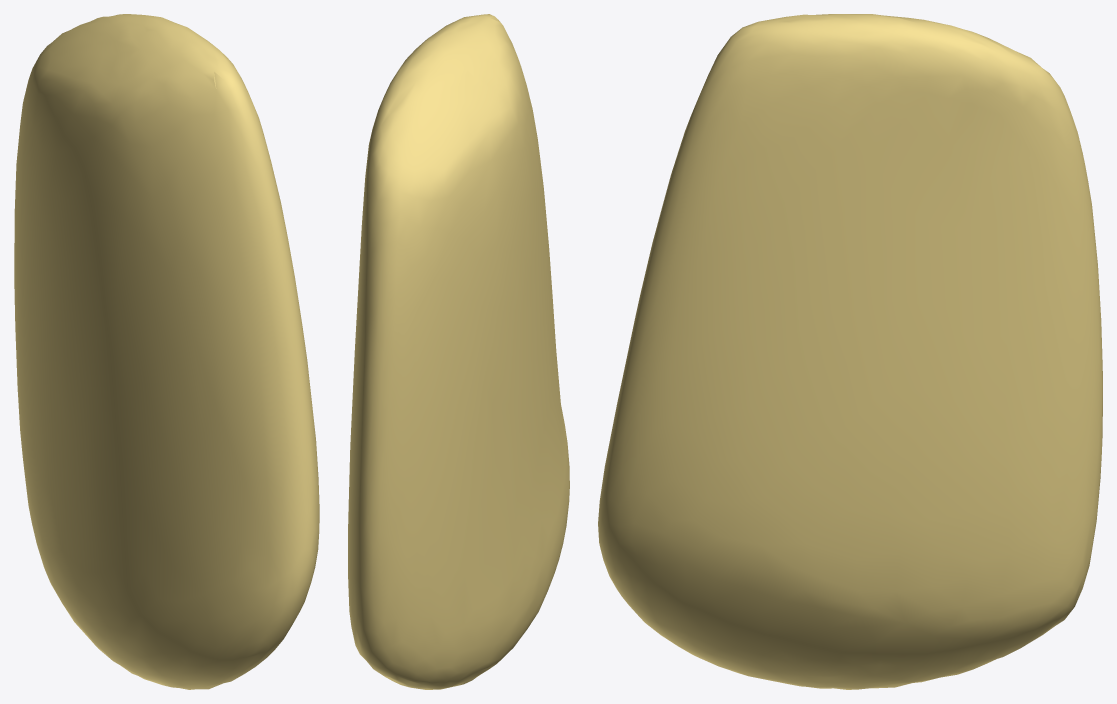
File: fma73339_fj7497m.glb
The picture shows the model from 3 angles, left to right: view 1: azimuth 30°, elevation 25°; view 2: azimuth 150°, elevation 25°; view 3: azimuth 270°, elevation 25°; orthographic projection. The views are drawn at different scales.
Visible parts, largest first — view 1: FMA73339_FJ7497M; view 2: FMA73339_FJ7497M; view 3: FMA73339_FJ7497M.
Part boxes in pixels (x1,y1,x2,y2): FMA73339_FJ7497M: [14, 14, 319, 689]; FMA73339_FJ7497M: [348, 14, 569, 689]; FMA73339_FJ7497M: [598, 14, 1102, 689].
Size of the model in its own units: 0.00112 by 0.00477 by 0.00316.
